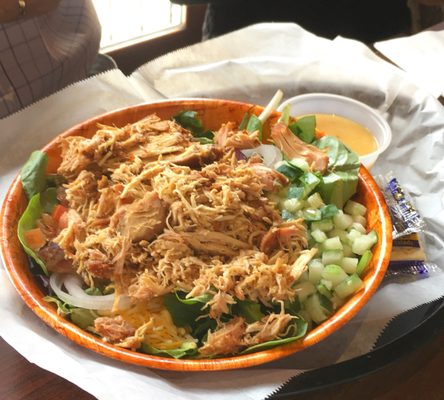sushi: (8, 100, 394, 373), (274, 92, 392, 171)
